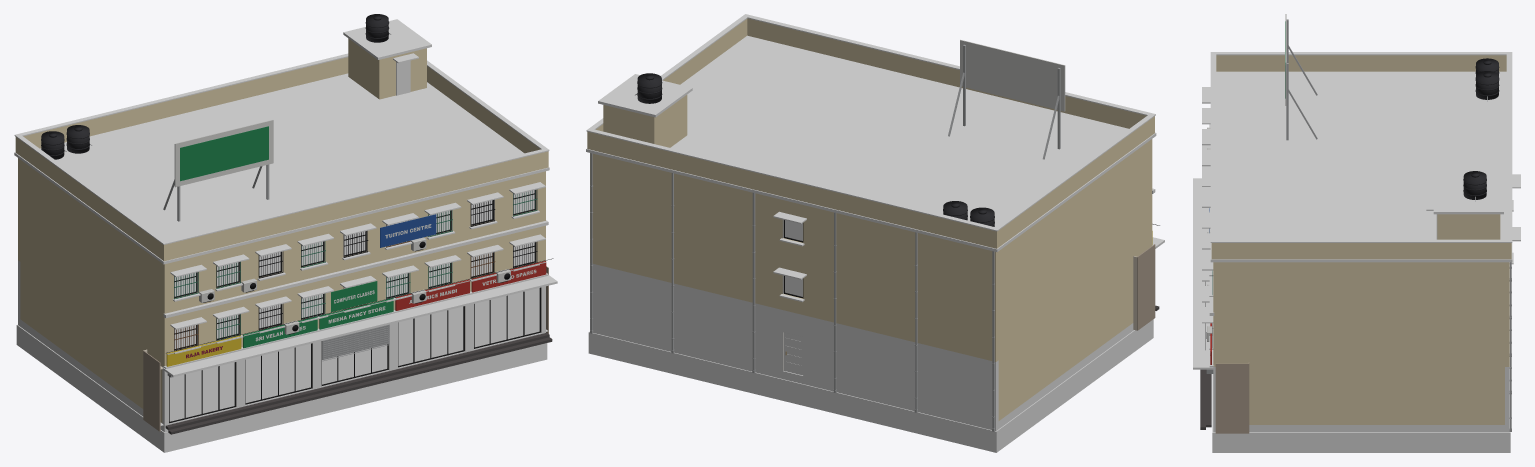
File: commercial_24x16_3.glb
The picture shows the model from 3 angles, left to right: view 1: azimuth 30°, elevation 25°; view 2: azimuth 150°, elevation 25°; view 3: azimuth 270°, elevation 25°; orthographic projection. The views are drawn at different scales.
Visible parts, largest first — view 1: commercial_24x16_3; view 2: commercial_24x16_3; view 3: commercial_24x16_3.
Boxes of the visible parts, x1=… form: commercial_24x16_3: x1=14, y1=14, x2=557, y2=452; commercial_24x16_3: x1=586, y1=14, x2=1164, y2=452; commercial_24x16_3: x1=1193, y1=14, x2=1520, y2=452.
Bounding box in the file's own units: 24.5 × 16.3 × 17.71.
